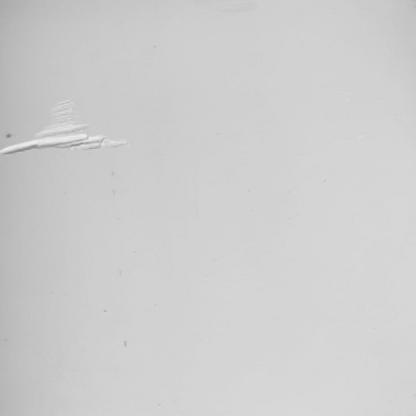sunshang: (3, 94, 126, 152)
